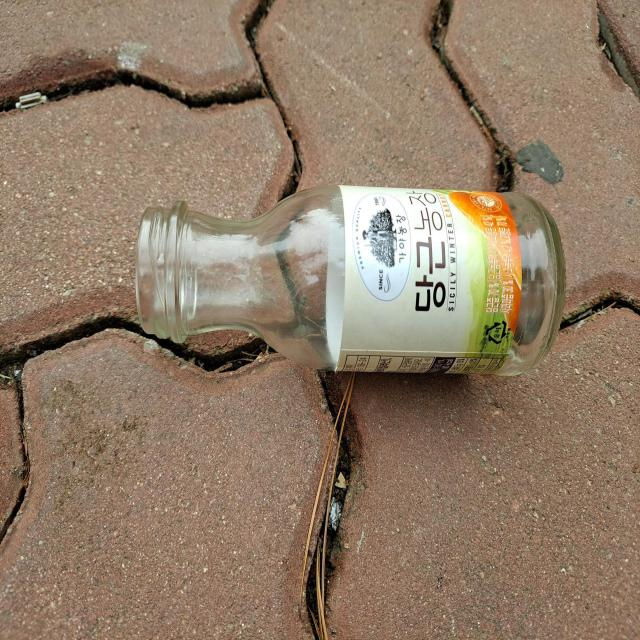glass: (135, 185, 565, 375)
